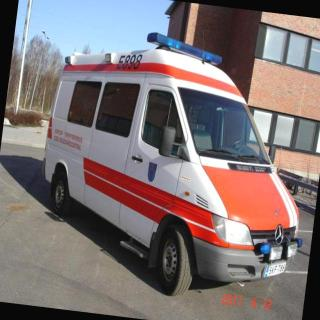Ambulance: (18, 14, 320, 316)
